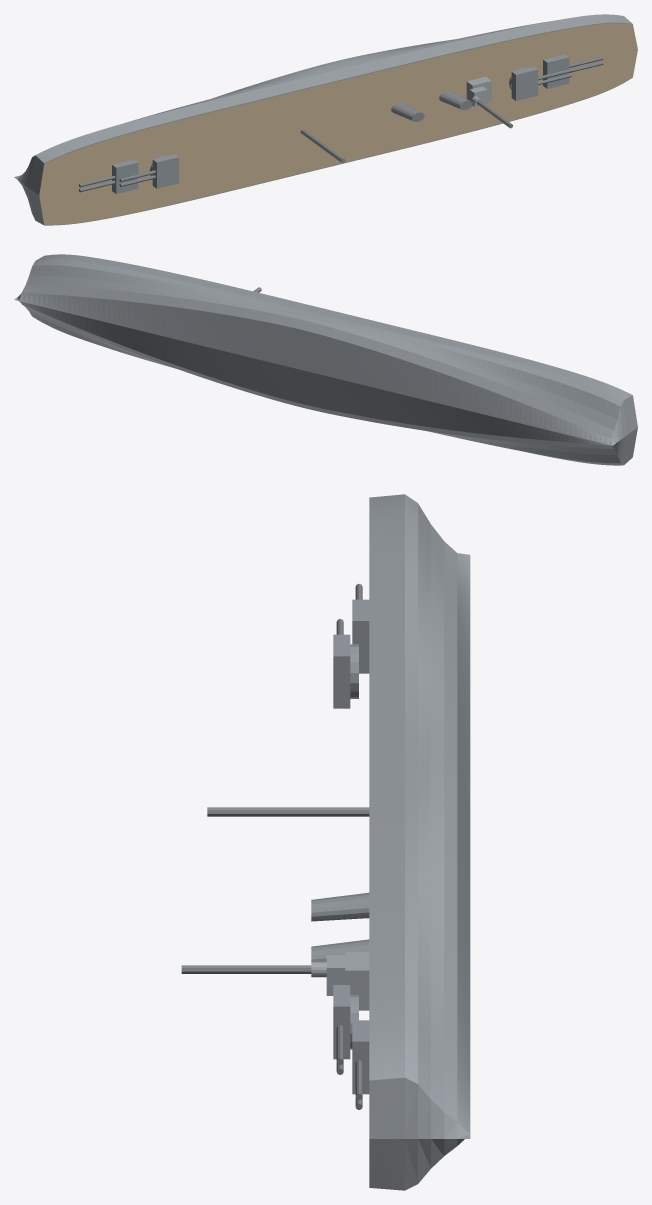
Rendered from 金剛型.glb.
The picture shows the model from 3 angles, top to bottom: view 1: azimuth 30°, elevation 25°; view 2: azimuth 150°, elevation 25°; view 3: azimuth 270°, elevation 25°; orthographic projection. The views are drawn at different scales.
Parts seen in each view (by area): view 1: 金剛型; view 2: 金剛型; view 3: 金剛型.
Part boxes in pixels (x1,y1,x2,y2): 金剛型: (14,14,637,225); 金剛型: (14,254,637,465); 金剛型: (181,494,470,1190).
Bounding box in the file's own units: 201 × 28.64 × 42.03.
